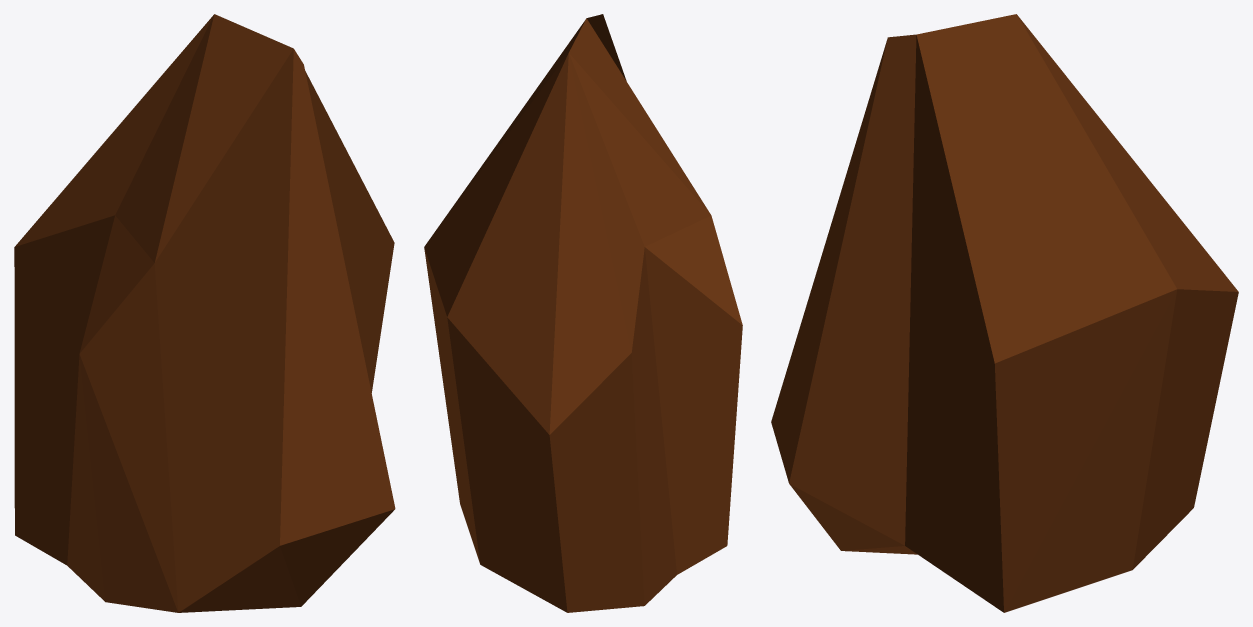
Rendered from roca_6.FBX.
The picture shows the model from 3 angles, left to right: view 1: azimuth 30°, elevation 25°; view 2: azimuth 150°, elevation 25°; view 3: azimuth 270°, elevation 25°; orthographic projection. The views are drawn at different scales.
Parts seen in each view (by area): view 1: Sphere007; view 2: Sphere007; view 3: Sphere007.
Part boxes in pixels (x1,y1,x2,y2): Sphere007: (14, 14, 395, 612); Sphere007: (424, 14, 742, 612); Sphere007: (771, 14, 1238, 612).
Size of the model in its own units: 1 by 1.53 by 1.21.
